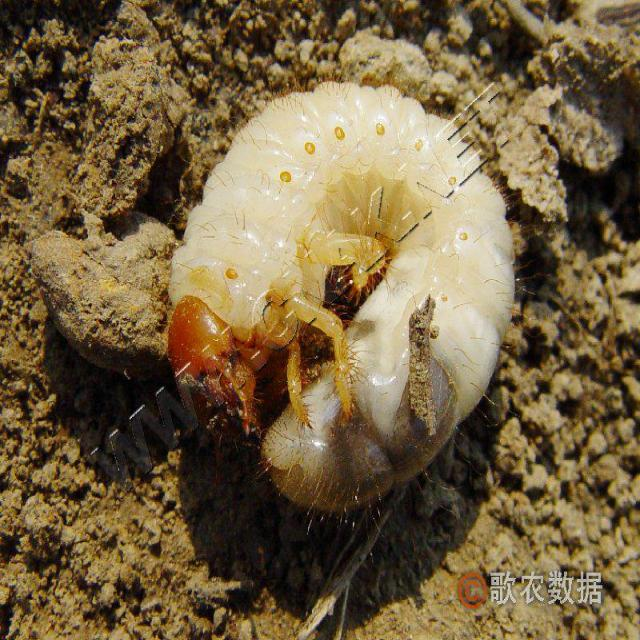Grub-Adult-: (158, 73, 518, 517)
